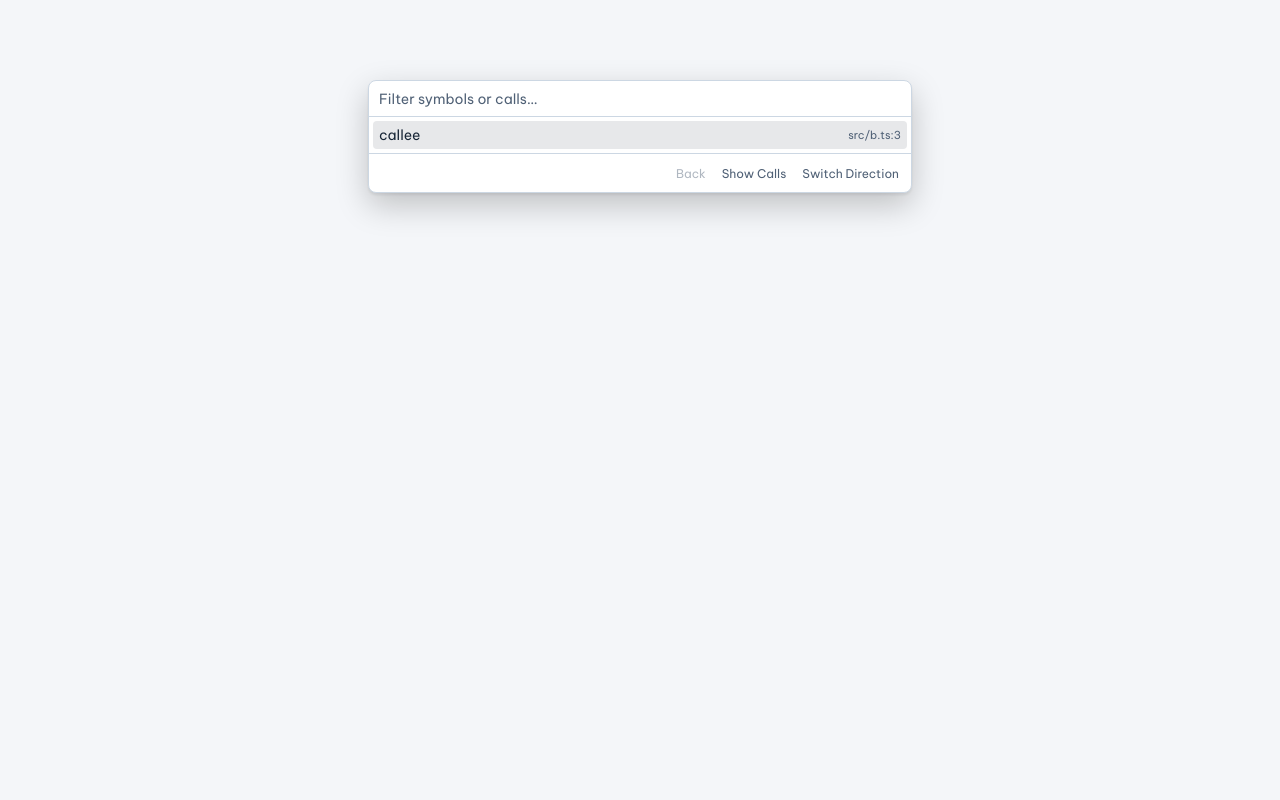
Test: EditorTools › EditorTools E3 › phân cấp lời gọi › có bản Anh cho số lời gọi gộp
The image size is (1280, 800).
Step 1. Click the text "callee" → (400, 135), box top-left (379, 126), bottom-right (420, 144)
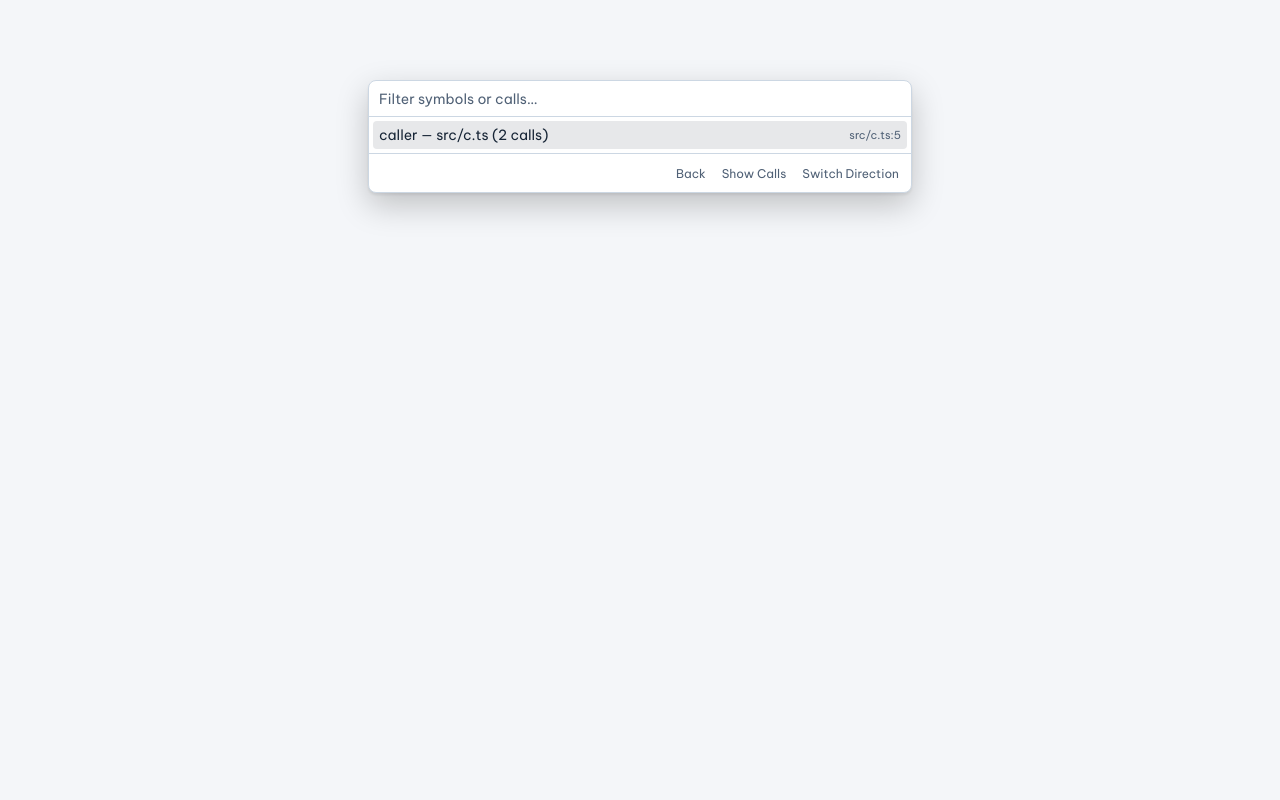
Expected: the text "caller — src/c.ts (2 calls)" is shown, top-left (379, 126), bottom-right (548, 144)
